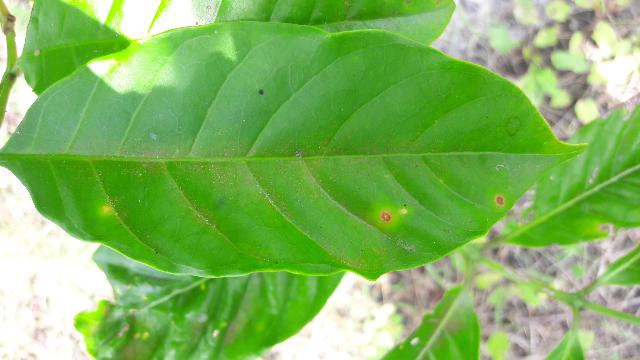rust_level_1: (0, 22, 582, 279)
